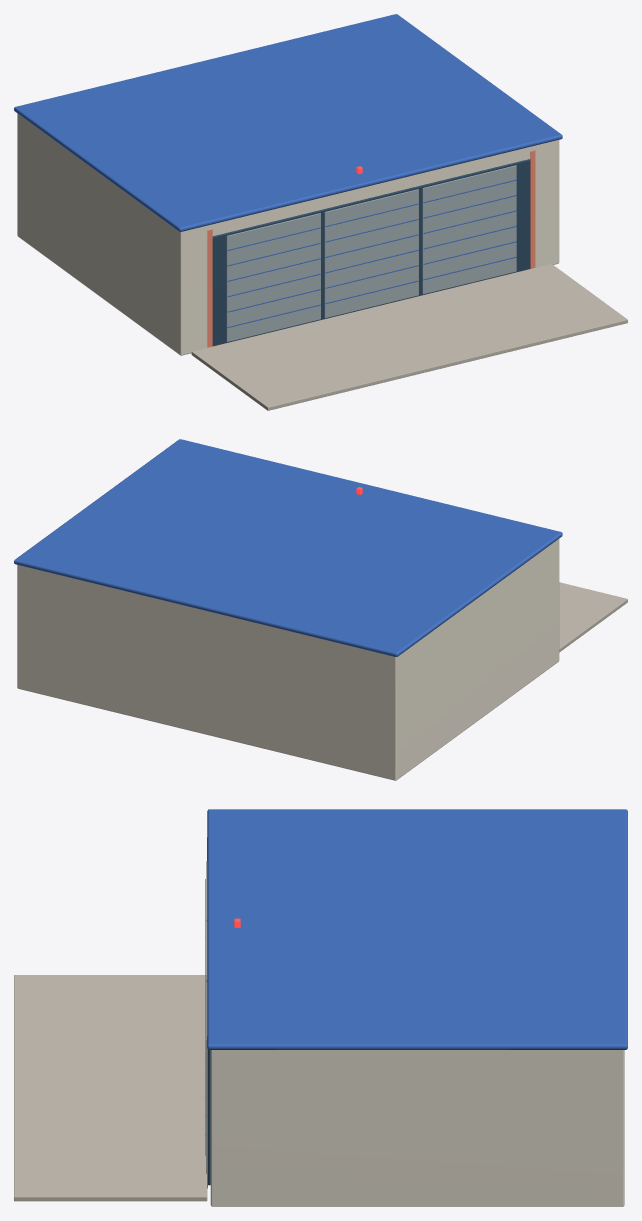
The model's file is HL_Building_CoastHangar.fbx.
The picture shows the model from 3 angles, top to bottom: view 1: azimuth 30°, elevation 25°; view 2: azimuth 150°, elevation 25°; view 3: azimuth 270°, elevation 25°; orthographic projection. The views are drawn at different scales.
Parts seen in each view (by area): view 1: Hangar | upper roof slab, Hangar | large vaulted shell, Hangar | concrete apron, Hangar | rolling door panel, Hangar | rolling door panel.001, Hangar | rolling door panel.002, Hangar | deep door portal, Hangar | coral corner stripe, Hangar | coral corner stripe.001; view 2: Hangar | large vaulted shell, Hangar | upper roof slab, Hangar | concrete apron; view 3: Hangar | upper roof slab, Hangar | large vaulted shell, Hangar | concrete apron.
Boxes of the visible parts, x1=… form: Hangar | upper roof slab: x1=14, y1=14, x2=562, y2=231; Hangar | large vaulted shell: x1=17, y1=113, x2=559, y2=355; Hangar | concrete apron: x1=191, y1=264, x2=627, y2=410; Hangar | rolling door panel: x1=226, y1=213, x2=320, y2=342; Hangar | rolling door panel.001: x1=324, y1=189, x2=418, y2=318; Hangar | rolling door panel.002: x1=422, y1=165, x2=516, y2=294; Hangar | deep door portal: x1=212, y1=159, x2=530, y2=346; Hangar | coral corner stripe: x1=207, y1=229, x2=212, y2=347; Hangar | coral corner stripe.001: x1=530, y1=150, x2=535, y2=268; Hangar | large vaulted shell: x1=17, y1=539, x2=559, y2=780; Hangar | upper roof slab: x1=14, y1=439, x2=562, y2=656; Hangar | concrete apron: x1=559, y1=582, x2=627, y2=652; Hangar | upper roof slab: x1=207, y1=809, x2=627, y2=1049; Hangar | large vaulted shell: x1=210, y1=1050, x2=624, y2=1206; Hangar | concrete apron: x1=14, y1=975, x2=207, y2=1201.
Size of the model in its own units: 2450 by 825 by 2685.
